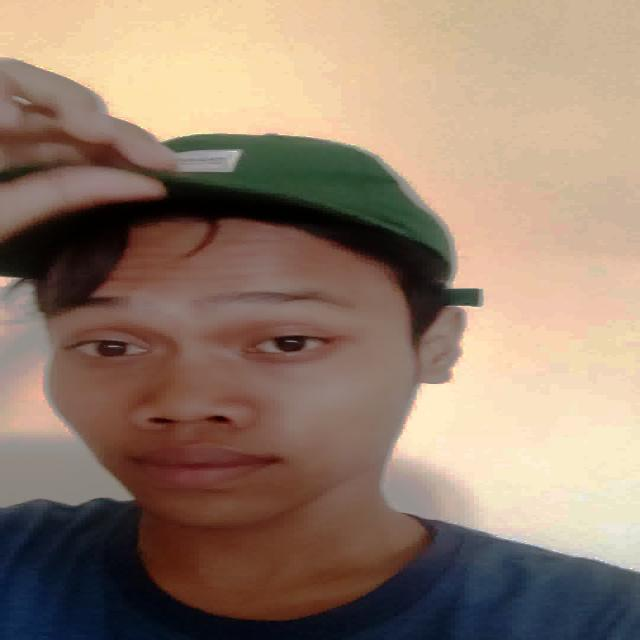TOPI: (10, 124, 469, 271)
